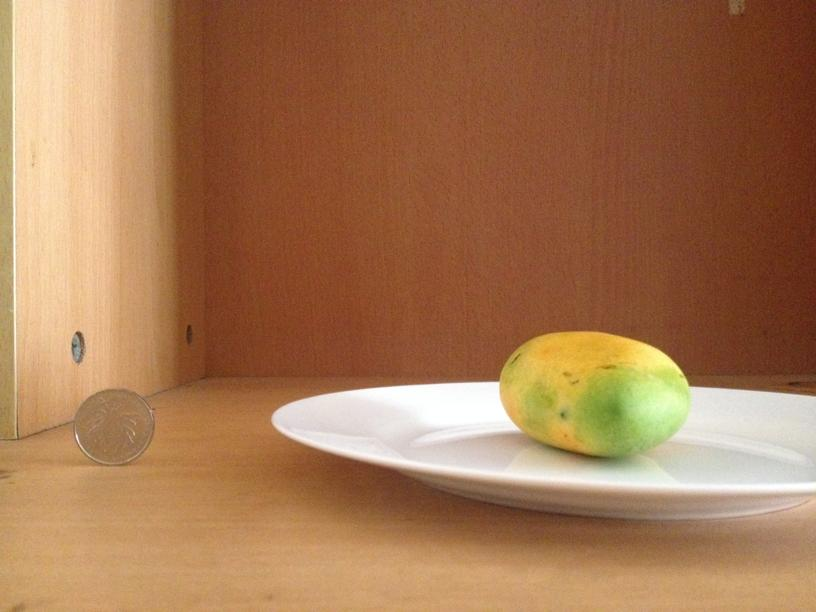coin: (73, 387, 155, 466)
mango: (499, 331, 692, 458)
